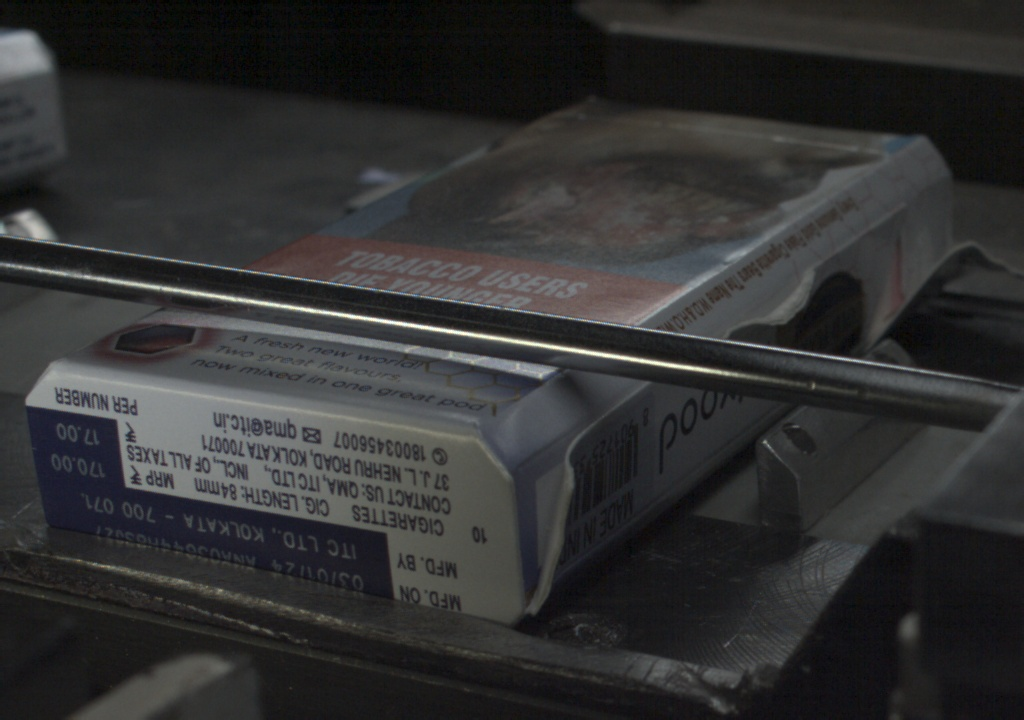g_bottom: (25, 358, 516, 623)
g_label: (40, 485, 395, 596)
ng_lmiter: (523, 425, 587, 614), (729, 257, 823, 332)
ng_miter: (923, 197, 1005, 287)
price: (35, 417, 119, 486)
